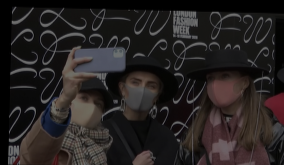with_mask: (69, 89, 104, 128), (124, 75, 159, 113), (205, 70, 241, 106)
